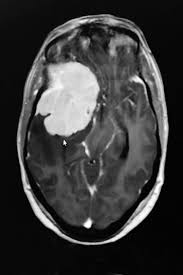tumor: (36, 62, 99, 136)
